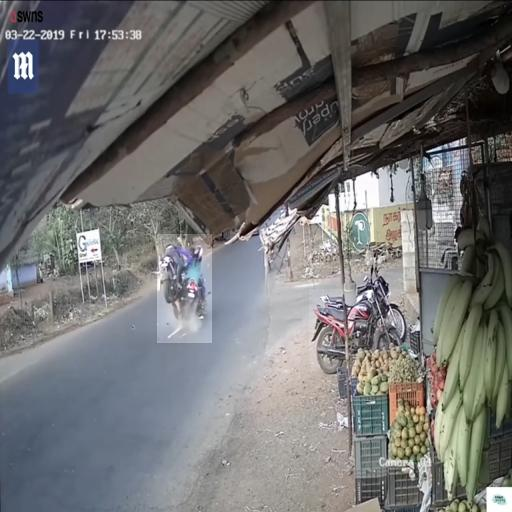自行车: (309, 289, 403, 372)
自行车撞自行车: (157, 234, 212, 343)
